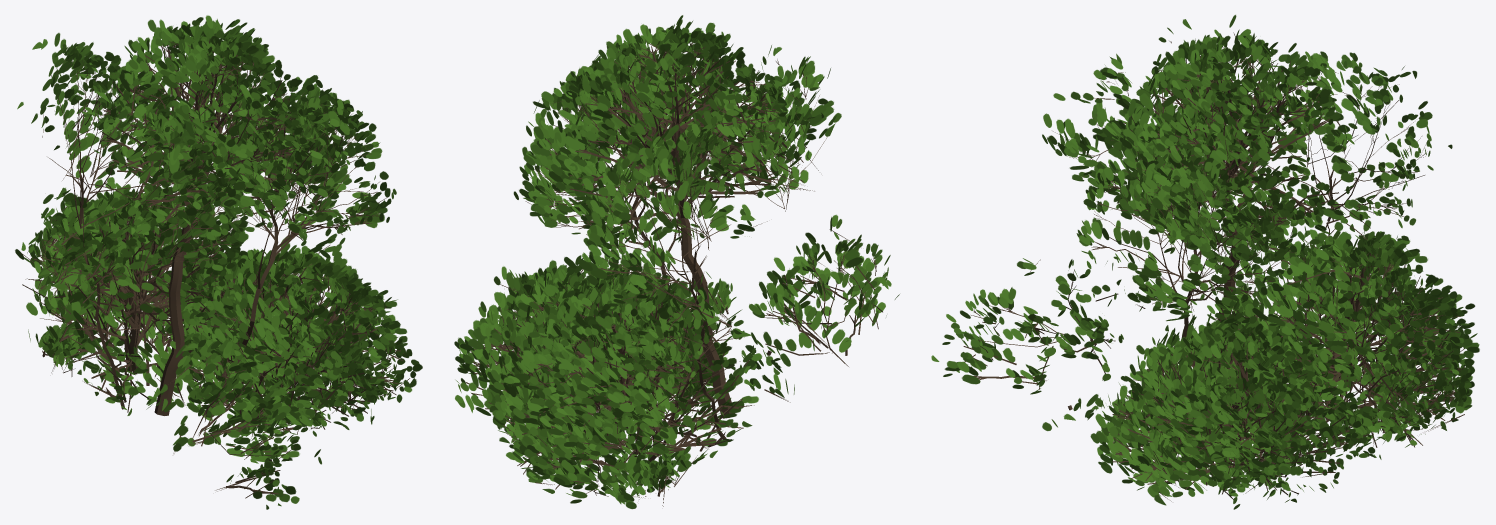
3 views of the same model, side by side, from view 1: azimuth 30°, elevation 25°; view 2: azimuth 150°, elevation 25°; view 3: azimuth 270°, elevation 25° (orthographic).
Parts seen in each view (by area): view 1: oak 01.001_trunk_Mat.001_0.342; view 2: oak 01.001_trunk_Mat.001_0.342; view 3: oak 01.001_trunk_Mat.001_0.342.
Boxes of the visible parts, <box> form: oak 01.001_trunk_Mat.001_0.342: <box>15,15,422,509</box>; oak 01.001_trunk_Mat.001_0.342: <box>454,15,899,509</box>; oak 01.001_trunk_Mat.001_0.342: <box>931,15,1479,509</box>.
Bounding box in the file's own units: 3.78 × 4.88 × 5.97.
2 materials, 1 textured.
